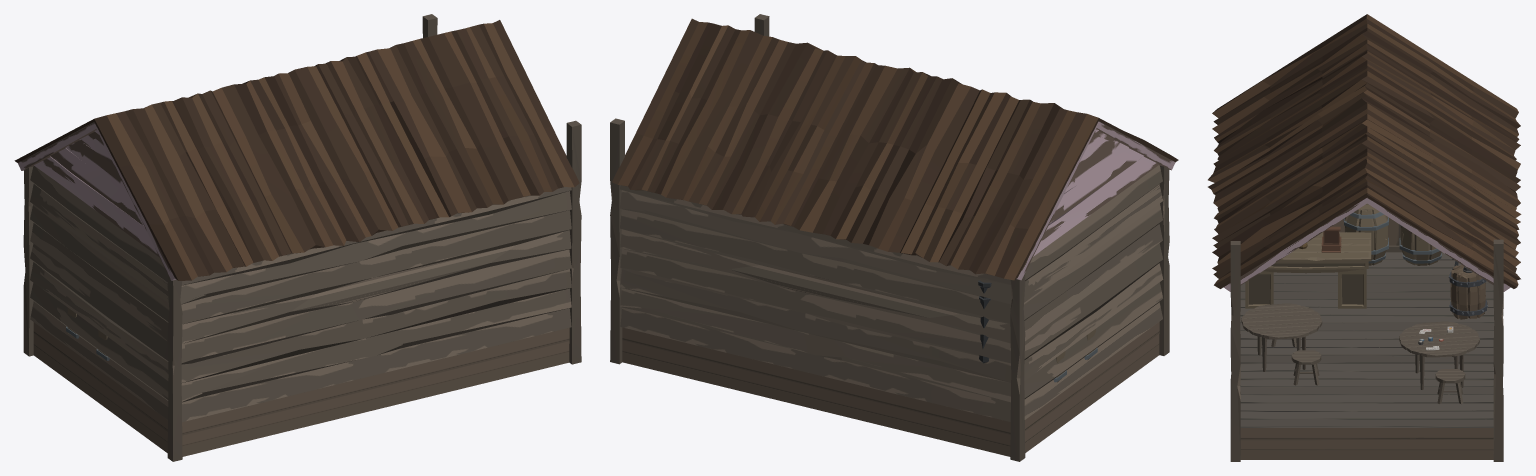
Rendered from Saloon.glb.
3 renders of one model, left to right at view 1: azimuth 30°, elevation 25°; view 2: azimuth 150°, elevation 25°; view 3: azimuth 270°, elevation 25°, orthographic. The views are drawn at different scales.
Parts seen in each view (by area): view 1: Saloon_internal, SM_Bld_Single_Roof_01; view 2: Saloon_internal, SM_Bld_Single_Roof_01; view 3: SM_Bld_Single_Roof_01, Saloon_internal, Bar, SM_Prop_Table_01__1_, Black_jack, SM_Gen_Prop_Barrel_Wood_03, SM_Prop_Barrel_01__1_, SM_Prop_Barrel_01, SM_Prop_Stool_Round_01, SM_Prop_Stool_Round_01__2_, SM_Prop_Cash_Register_01.
Boxes of the visible parts, x1,y1,x2,y2 form: Saloon_internal: [23, 14, 581, 461]; SM_Bld_Single_Roof_01: [14, 20, 579, 280]; Saloon_internal: [610, 14, 1169, 461]; SM_Bld_Single_Roof_01: [612, 18, 1178, 280]; SM_Bld_Single_Roof_01: [1208, 14, 1521, 291]; Saloon_internal: [1230, 217, 1503, 461]; Bar: [1245, 232, 1371, 308]; SM_Prop_Table_01__1_: [1241, 303, 1322, 371]; Black_jack: [1399, 321, 1479, 389]; SM_Gen_Prop_Barrel_Wood_03: [1448, 265, 1487, 319]; SM_Prop_Barrel_01__1_: [1343, 203, 1388, 265]; SM_Prop_Barrel_01: [1399, 225, 1441, 265]; SM_Prop_Stool_Round_01: [1435, 369, 1465, 403]; SM_Prop_Stool_Round_01__2_: [1291, 350, 1321, 385]; SM_Prop_Cash_Register_01: [1321, 226, 1341, 252].
Bounding box in the file's own units: 8.27 × 5.58 × 5.98.
Materials: 5 (4 with a texture image).
